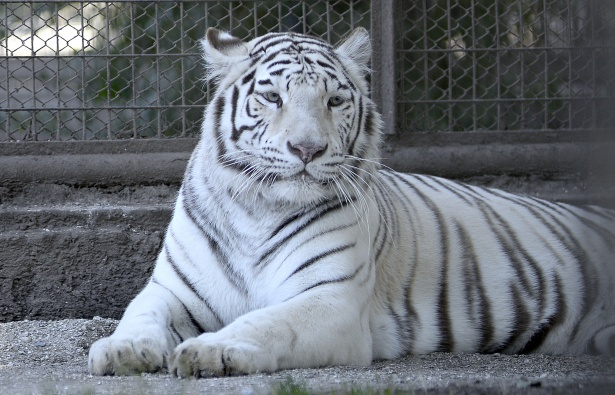Tigrew: (141, 15, 586, 367)
